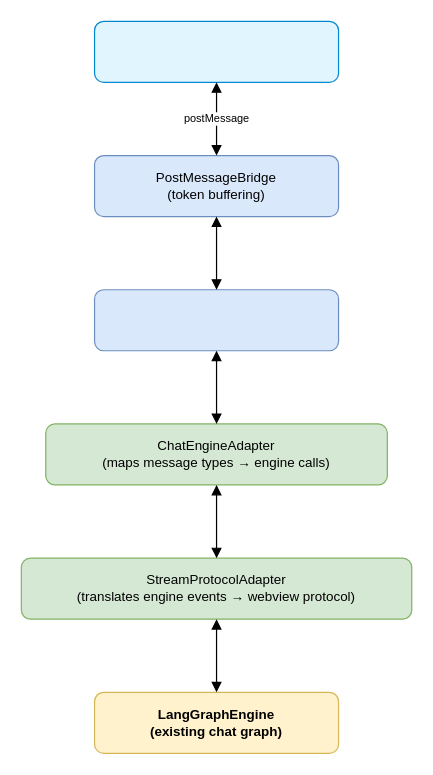
Image size: 433x775. Some labels were removed from this diagram. Each missing label, with the centre of its shape:
"MessageRouter (dispatch by type)" goes at (216,320).
"Webview (Svelte)" goes at (216,51).
